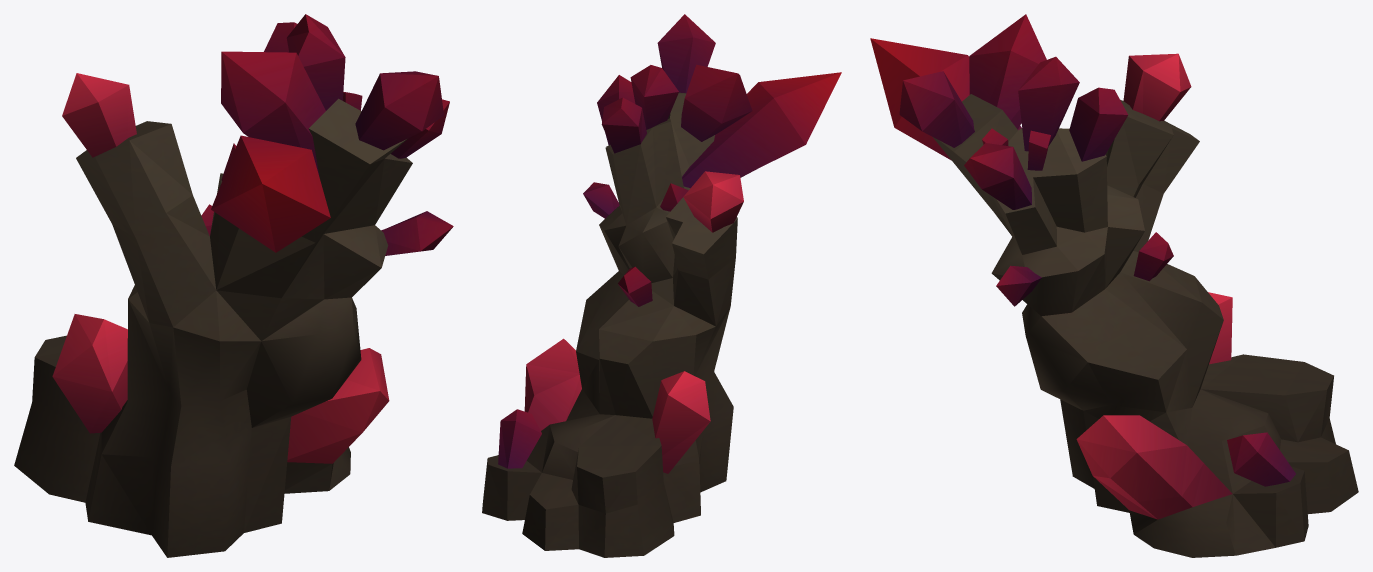
File: ZLP_Crystalk_B_8.FBX
The picture shows the model from 3 angles, left to right: view 1: azimuth 30°, elevation 25°; view 2: azimuth 150°, elevation 25°; view 3: azimuth 270°, elevation 25°; orthographic projection. The views are drawn at different scales.
Parts seen in each view (by area): view 1: ZLP_Crystalk_B_8; view 2: ZLP_Crystalk_B_8; view 3: ZLP_Crystalk_B_8.
Part boxes in pixels (bbox=[...]): ZLP_Crystalk_B_8: bbox=[14, 14, 453, 557]; ZLP_Crystalk_B_8: bbox=[482, 14, 841, 557]; ZLP_Crystalk_B_8: bbox=[870, 14, 1358, 557].
Size of the model in its own units: 133 by 216 by 213.
